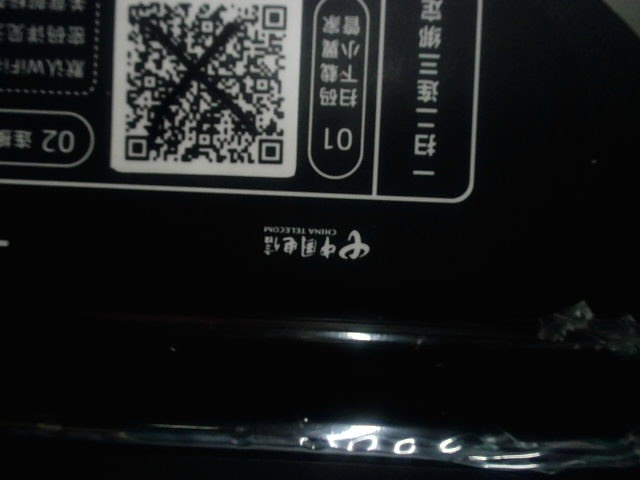AB_ChinaTelecom: (251, 218, 382, 266)
